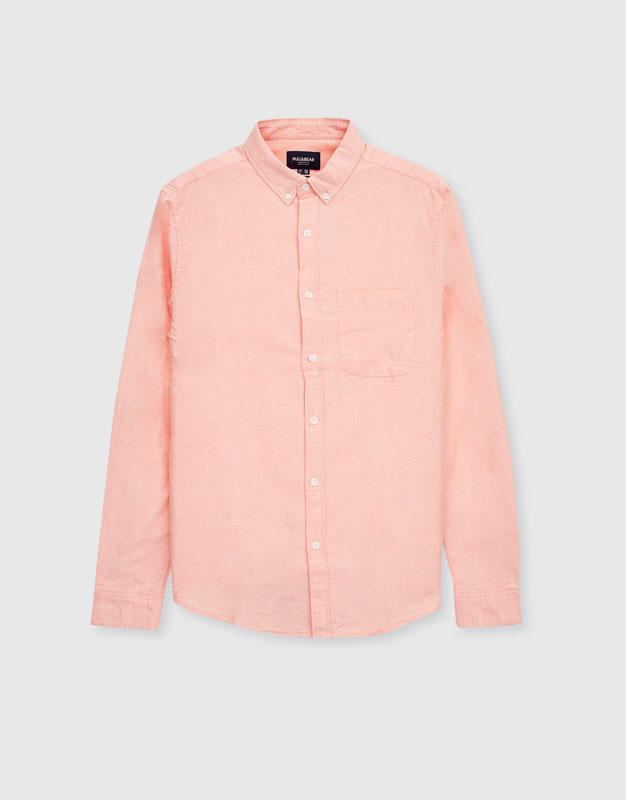teeshirt: (86, 112, 535, 655)
